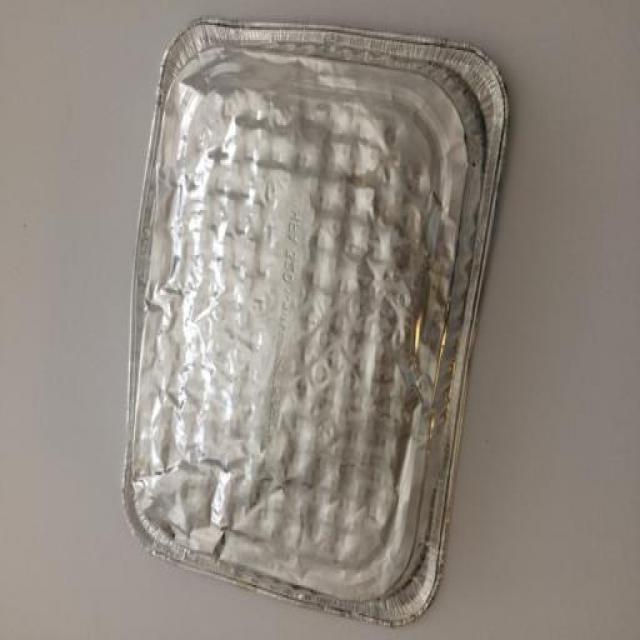others: (132, 17, 516, 613)
